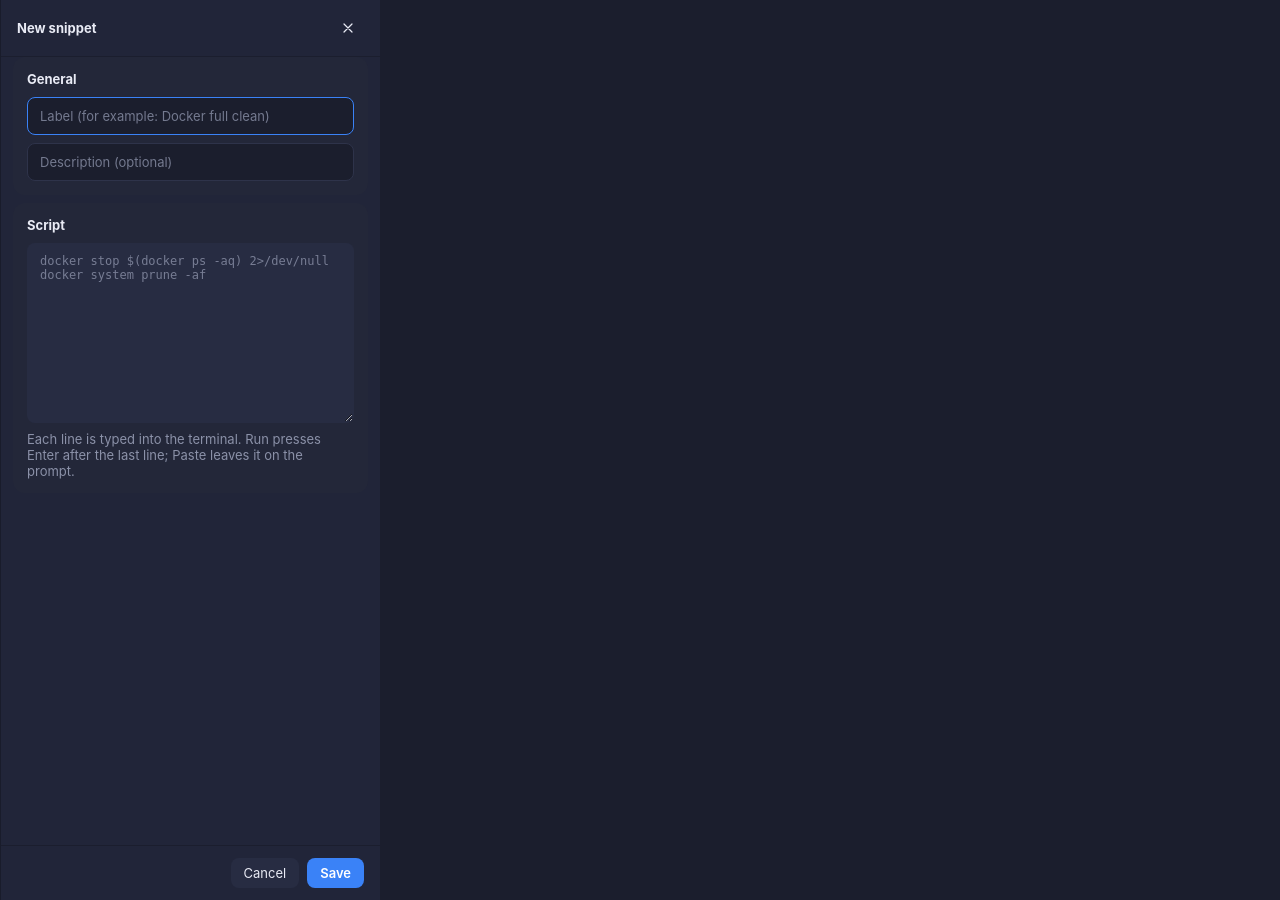
it: SnippetForm › shows backend errors
The width and height of the screenshot is (1280, 900).
Type "x" into the field named "Snippet label".
click(190, 116); type("x")  # box [27,97,354,135]
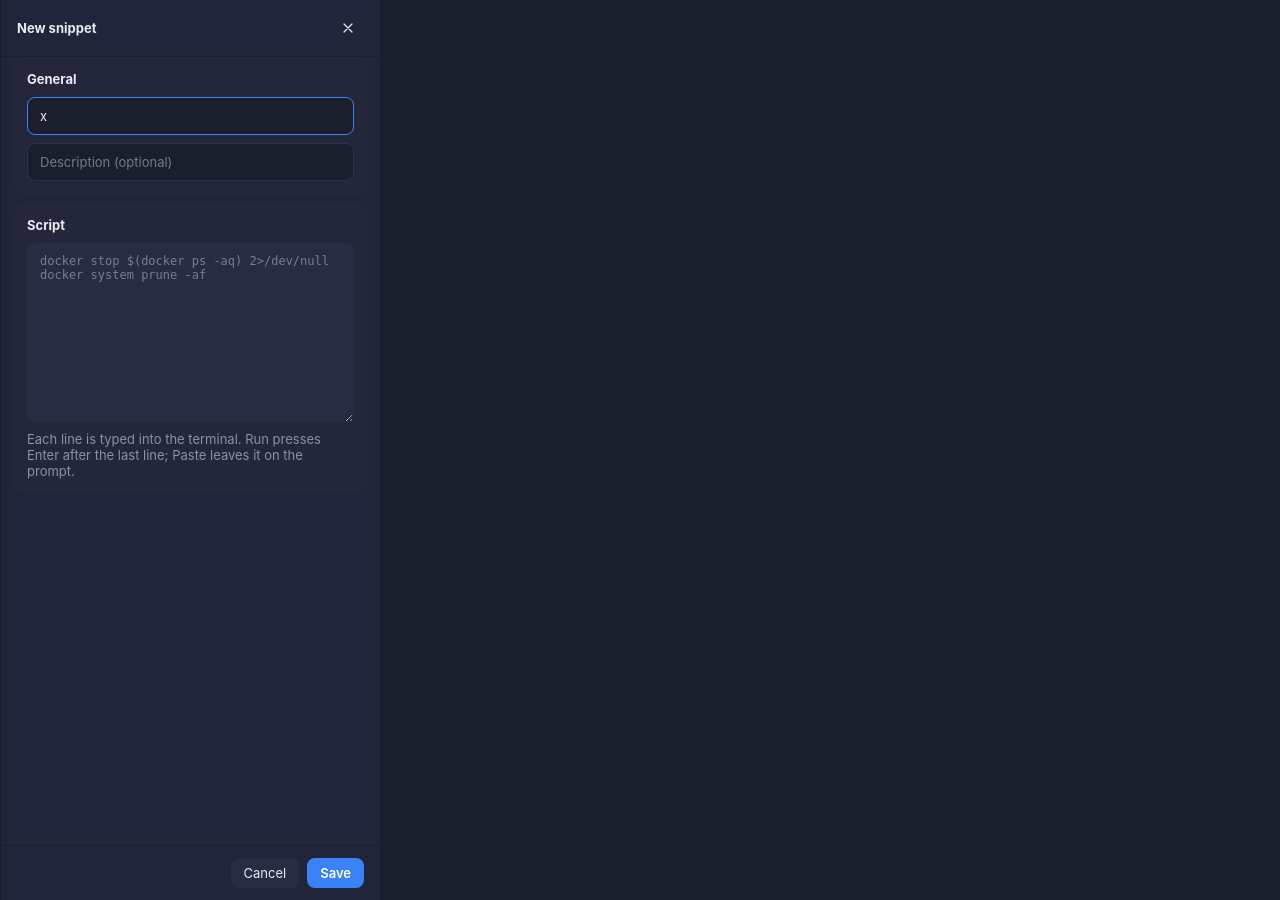
Type "ls" into the text box named "Script".
click(190, 333); type("ls")  # box [27,243,354,423]
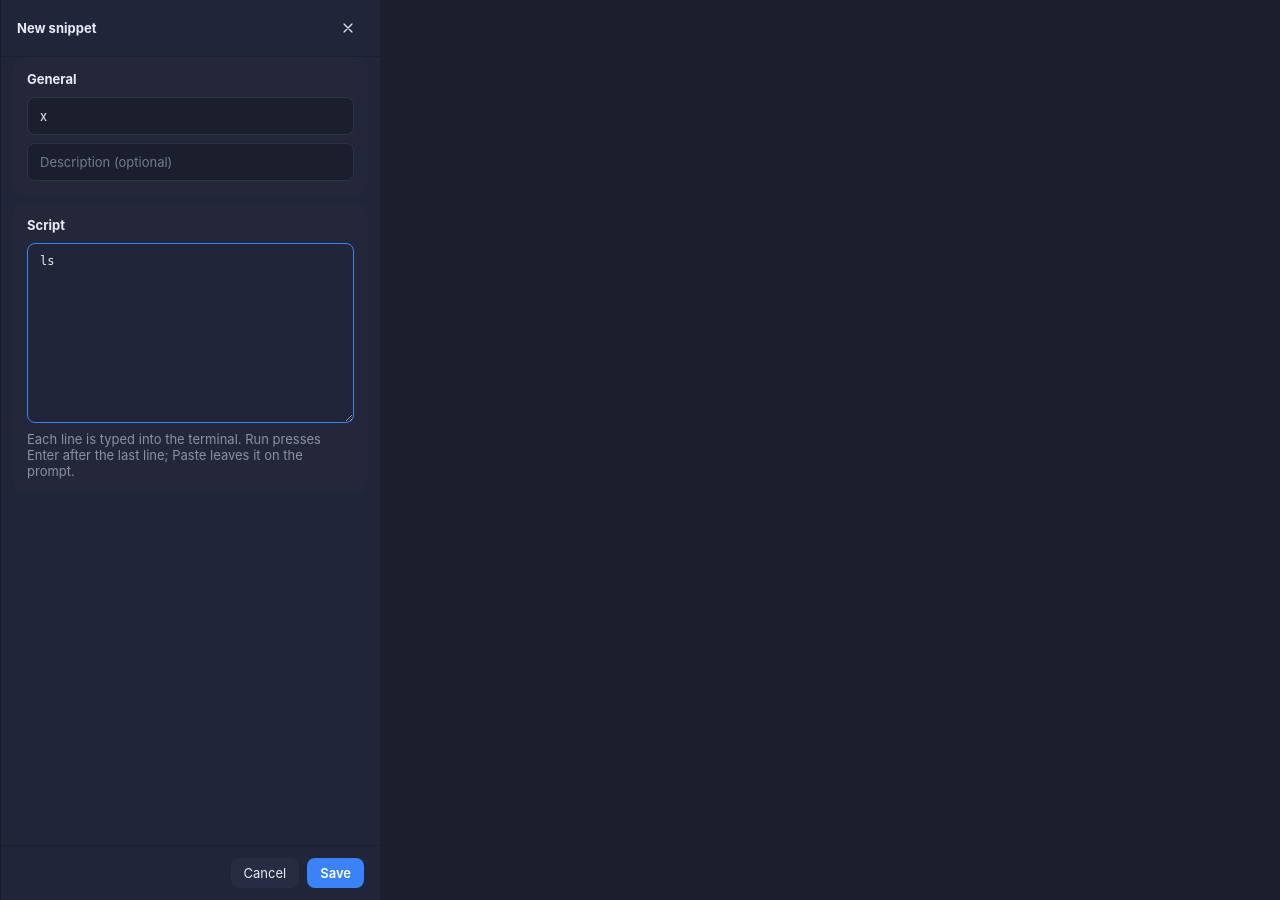
Click the button "Save".
click(336, 873)  # box [307,858,364,888]
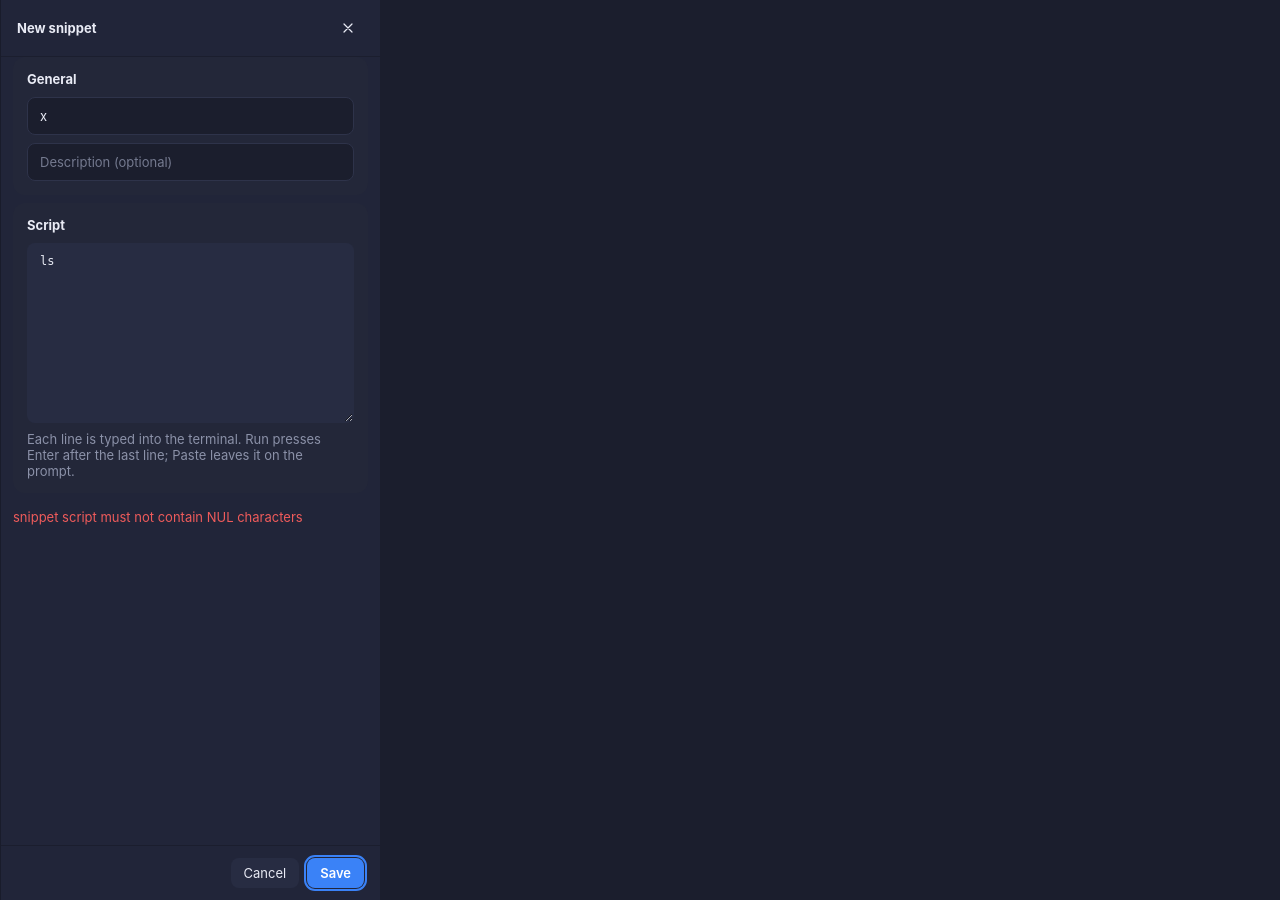
Result: the message shows "NUL" at [13,509,303,525]
